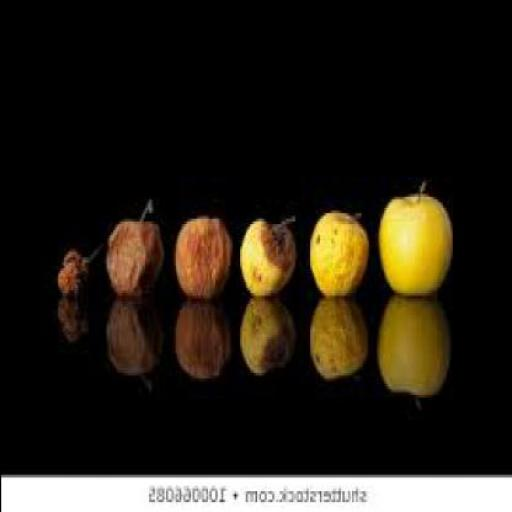biodegradable: (375, 292, 453, 405), (379, 174, 453, 289), (106, 195, 167, 292), (107, 292, 163, 388), (311, 206, 370, 292), (311, 289, 368, 377), (240, 209, 300, 292), (176, 208, 230, 294), (178, 297, 232, 377), (242, 292, 296, 372), (58, 240, 100, 294), (57, 298, 91, 336)
